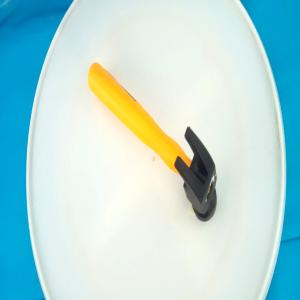martelo: (87, 62, 218, 222)
